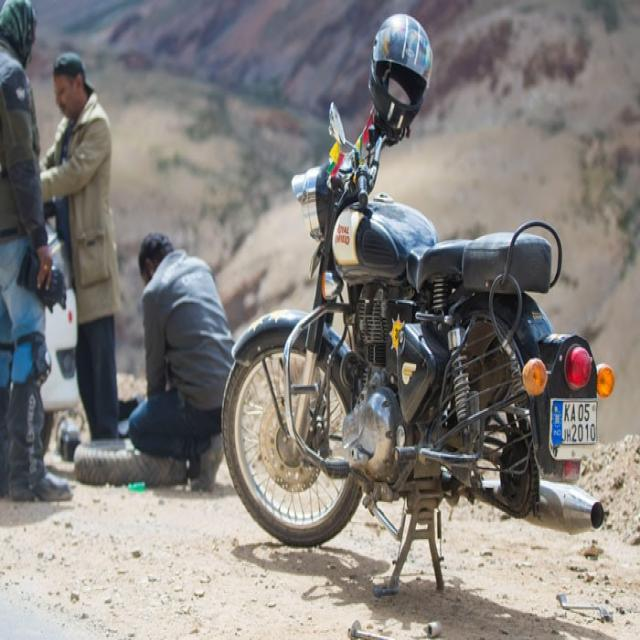accident: (222, 16, 614, 595)
